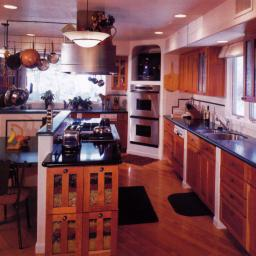Electrodomestico: (130, 82, 159, 149)
Lavaplatos: (205, 119, 250, 145)
